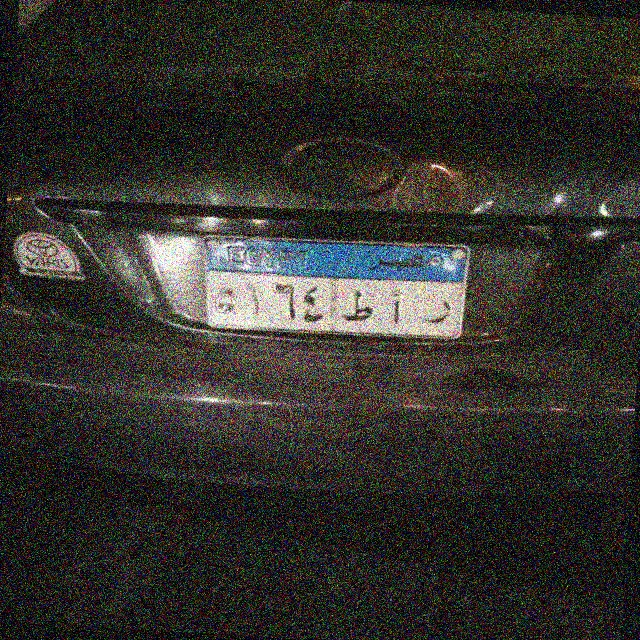License Plate: (194, 227, 475, 347)
